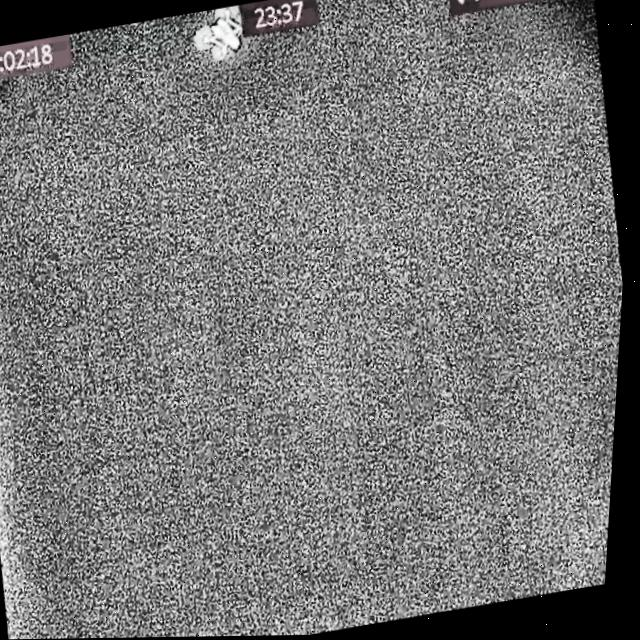drone: (189, 6, 248, 65)
